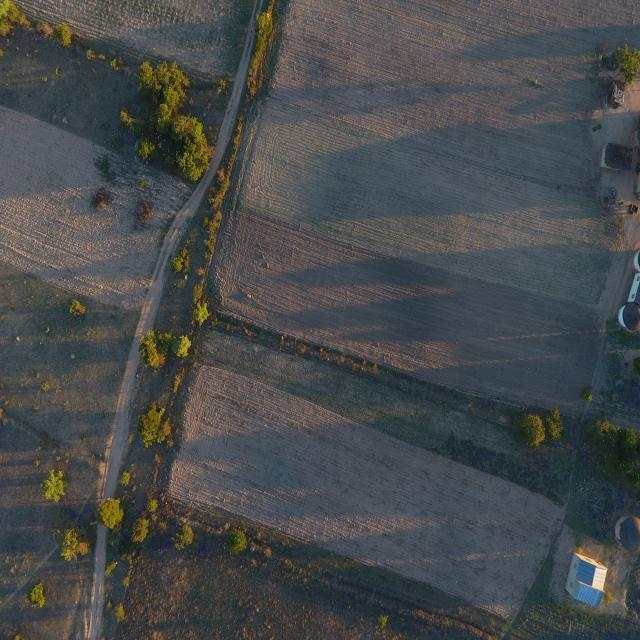boundaries: (108, 155, 255, 571)
